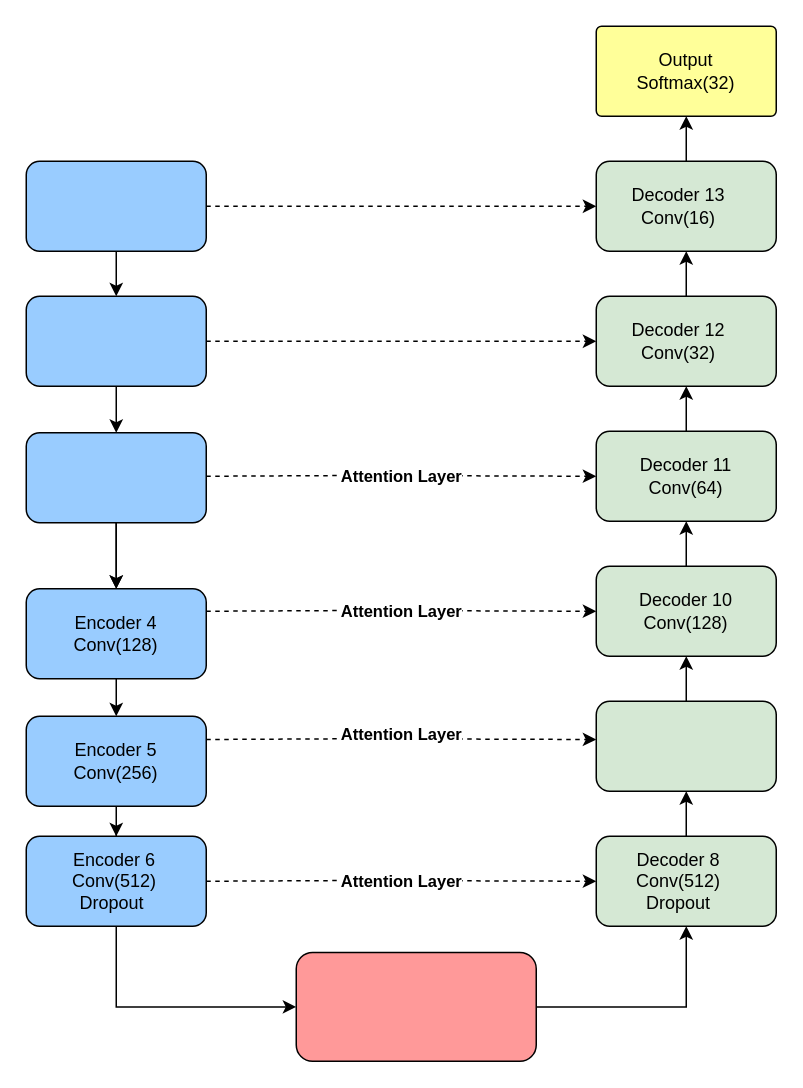
Image size: 803x1088. Some labels were removed from this diagram. Each missing label, with the box of its shape:
Bottleneck Conv(16) Dropout: (295, 951, 536, 1061)
Decoder 9 Conv(256) Dropout: (595, 700, 776, 791)
Encoder 1 Conv(16): (25, 160, 206, 251)
Encoder 2 Conv(32): (25, 295, 206, 386)
Encoder 3 Conv(64): (25, 431, 206, 523)
